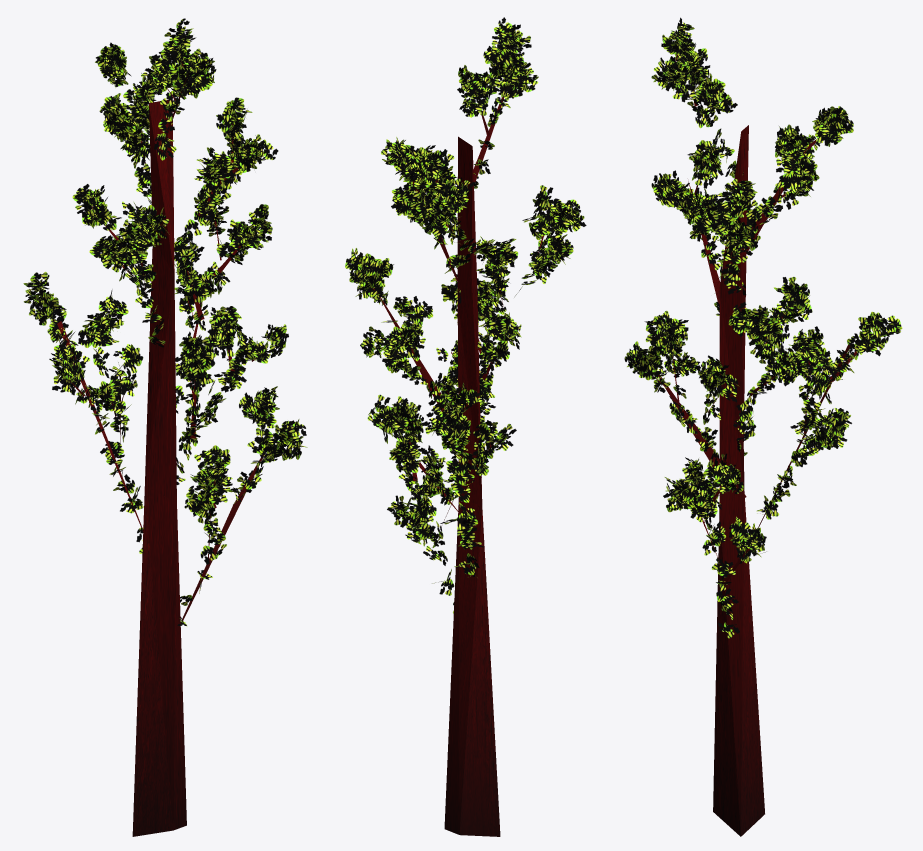
File: baldcypress_v01_LOD2.glb
3 renders of one model, left to right at view 1: azimuth 30°, elevation 25°; view 2: azimuth 150°, elevation 25°; view 3: azimuth 270°, elevation 25°, orthographic. The views are drawn at different scales.
Visible parts, largest first — view 1: baldcypress_v01_LOD2; view 2: baldcypress_v01_LOD2; view 3: baldcypress_v01_LOD2.
Part boxes in pixels (x1,y1,x2,y2): baldcypress_v01_LOD2: (23, 18, 307, 836); baldcypress_v01_LOD2: (345, 17, 586, 836); baldcypress_v01_LOD2: (624, 17, 902, 836).
Size of the model in its own units: 7.74 by 27.34 by 8.97.
Materials: 2 (2 with a texture image).
